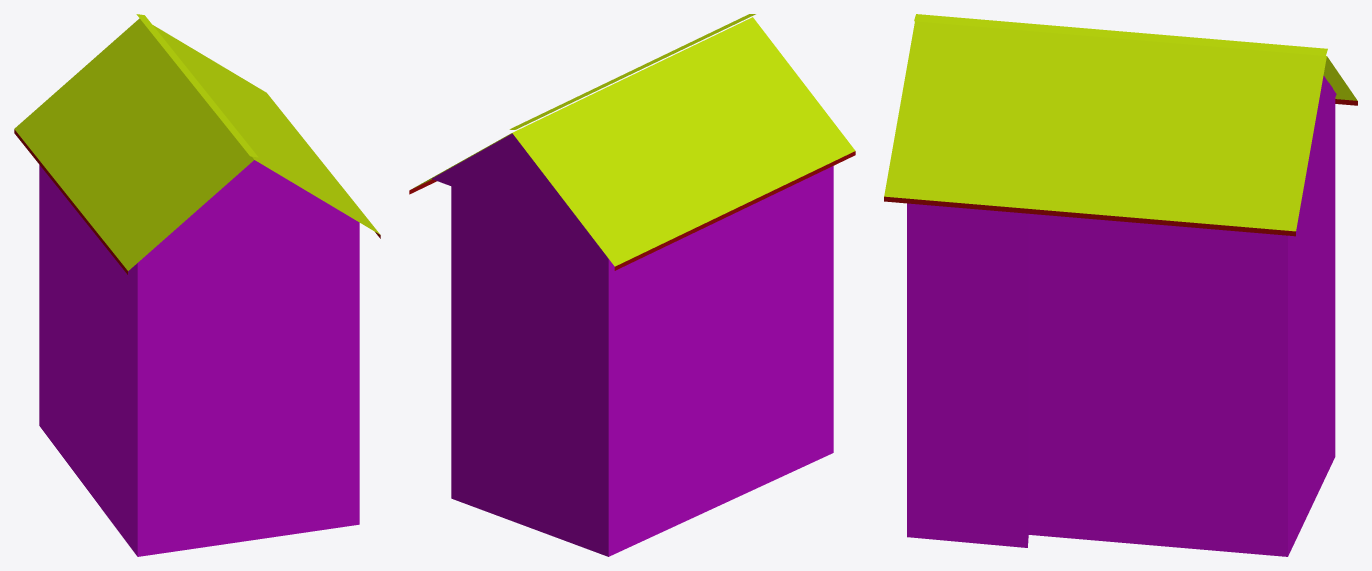
Rendered from bgj_342.glb.
3 renders of one model, left to right at view 1: azimuth 30°, elevation 25°; view 2: azimuth 150°, elevation 25°; view 3: azimuth 270°, elevation 25°, orthographic. The views are drawn at different scales.
Visible parts, largest first — view 1: bgj_342; view 2: bgj_342; view 3: bgj_342.
Boxes of the visible parts, x1=… form: bgj_342: x1=14, y1=14, x2=380, y2=556; bgj_342: x1=409, y1=14, x2=855, y2=556; bgj_342: x1=884, y1=14, x2=1357, y2=556.
Bounding box in the file's own units: 8.71 × 11.36 × 10.55.
